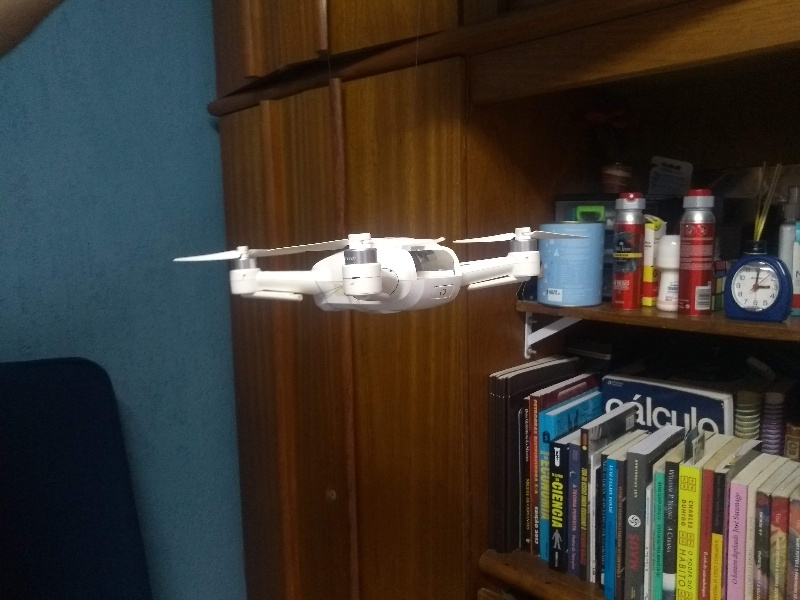drone: (172, 224, 591, 325)
